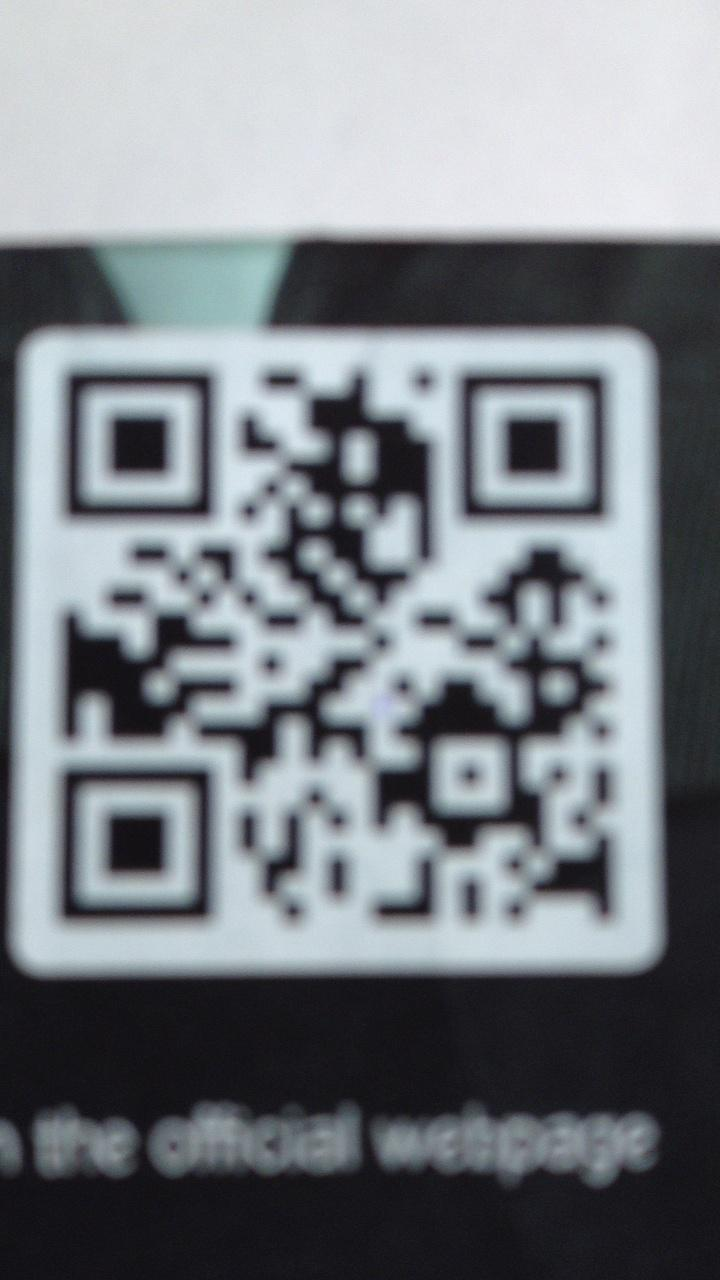Finder pattern: (54, 752, 221, 931), (56, 356, 225, 530), (446, 359, 614, 530)
